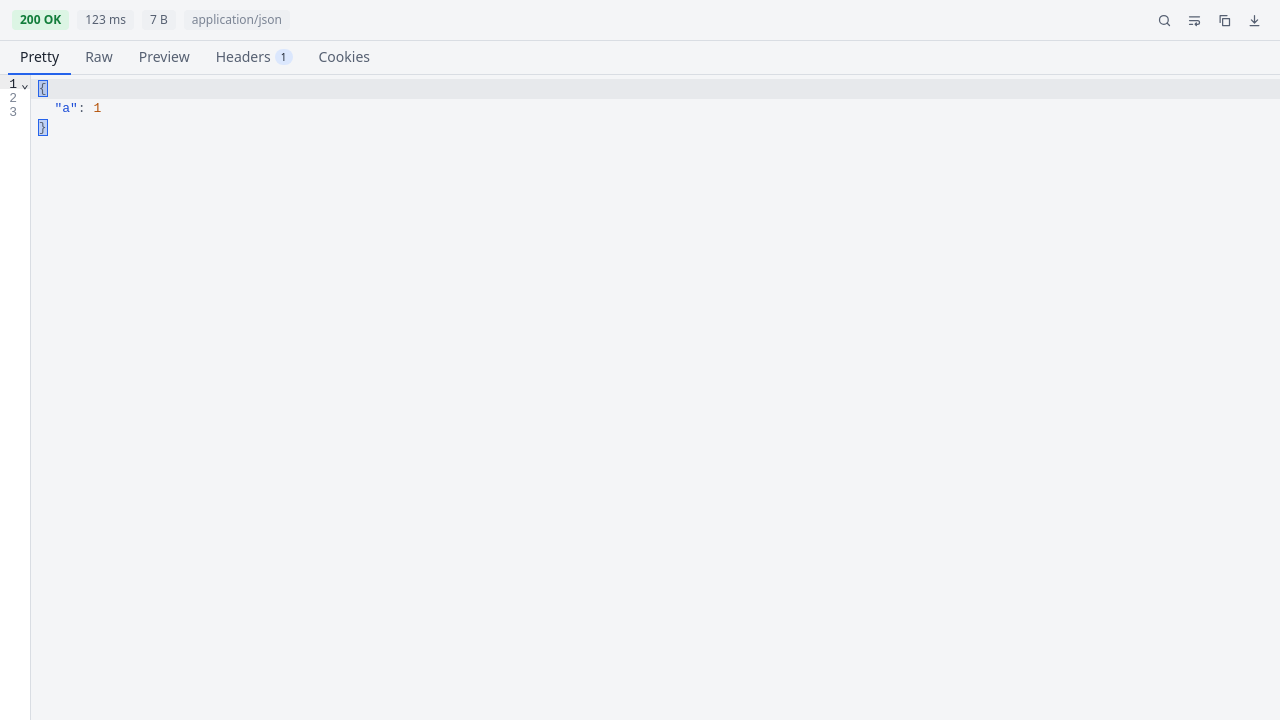
ResponseViewer right-click menus › offers the toolbar actions on the body
The width and height of the screenshot is (1280, 720).
Right-click the element with test id "response-body" at x=640, y=398, box [0, 75, 1279, 719]
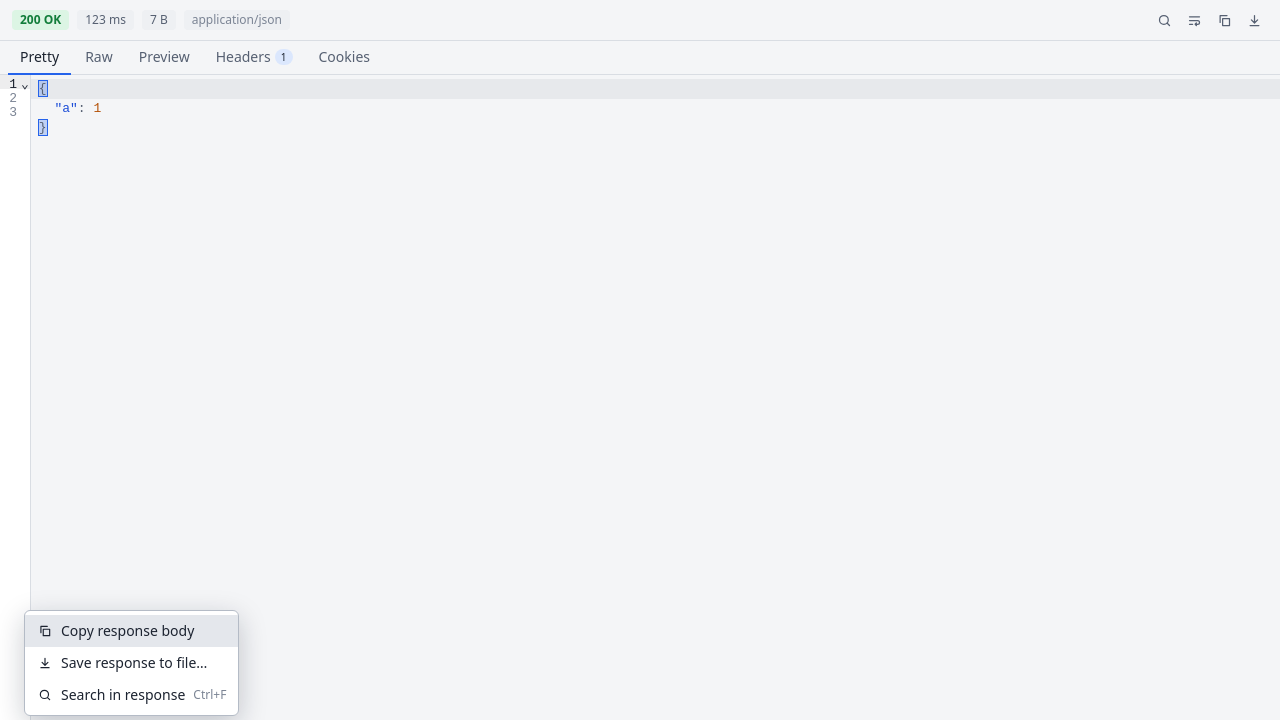
Click the menu item "Search in response Ctrl+F". click: x=132, y=695
box: [25, 679, 238, 711]
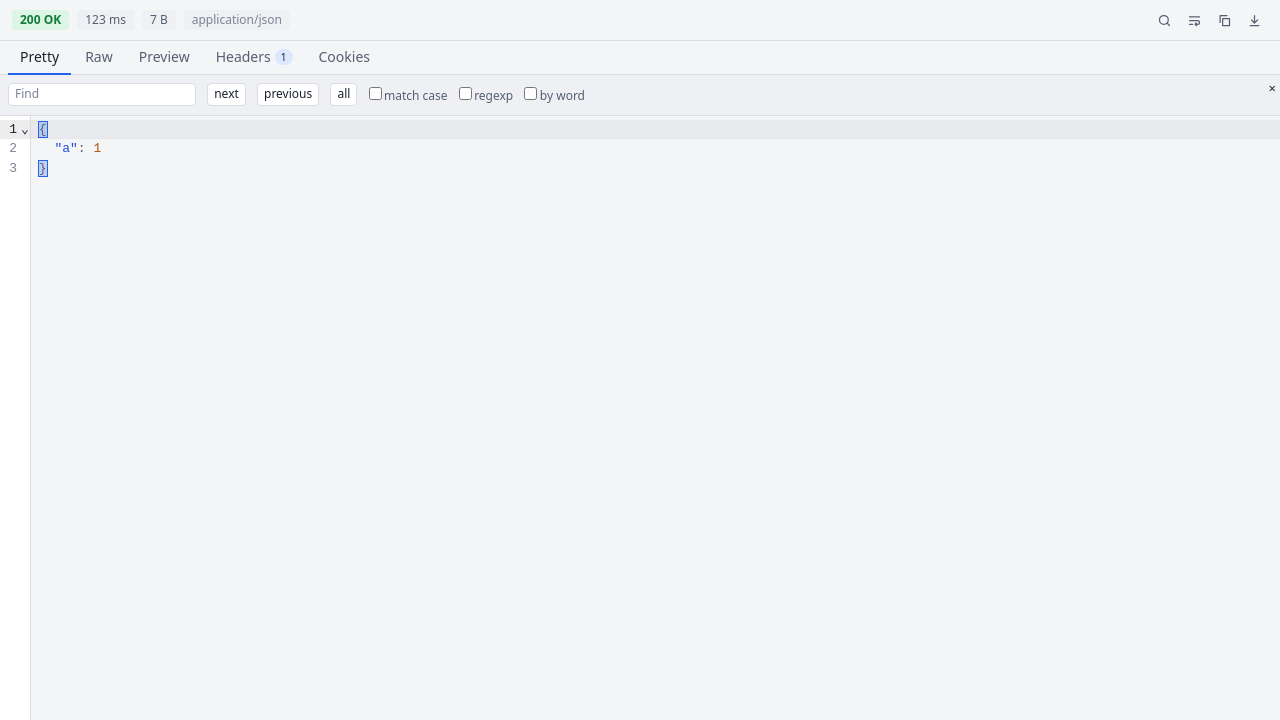
Result: the element with class "cm-search" is shown at [0, 75, 1279, 115]
